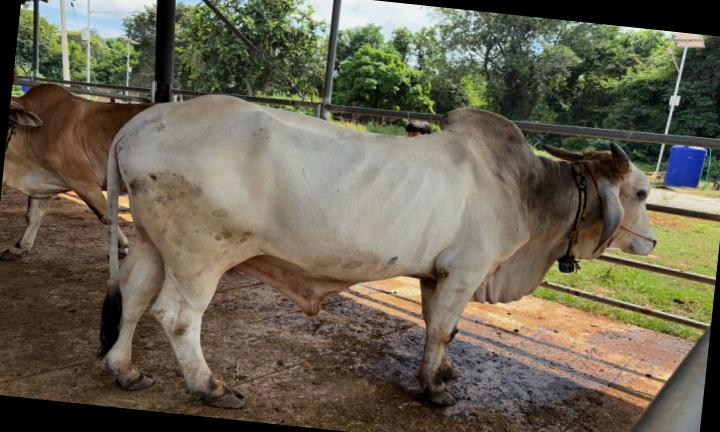Brahman: (101, 95, 655, 407)
